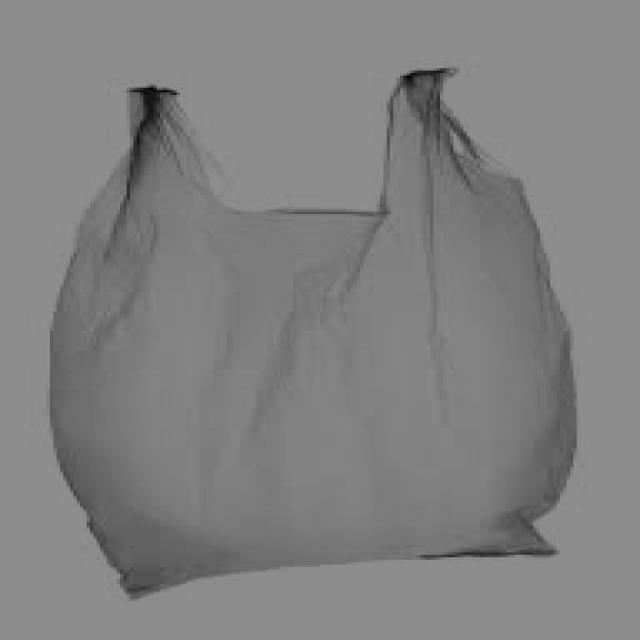residual: (35, 50, 591, 603)
